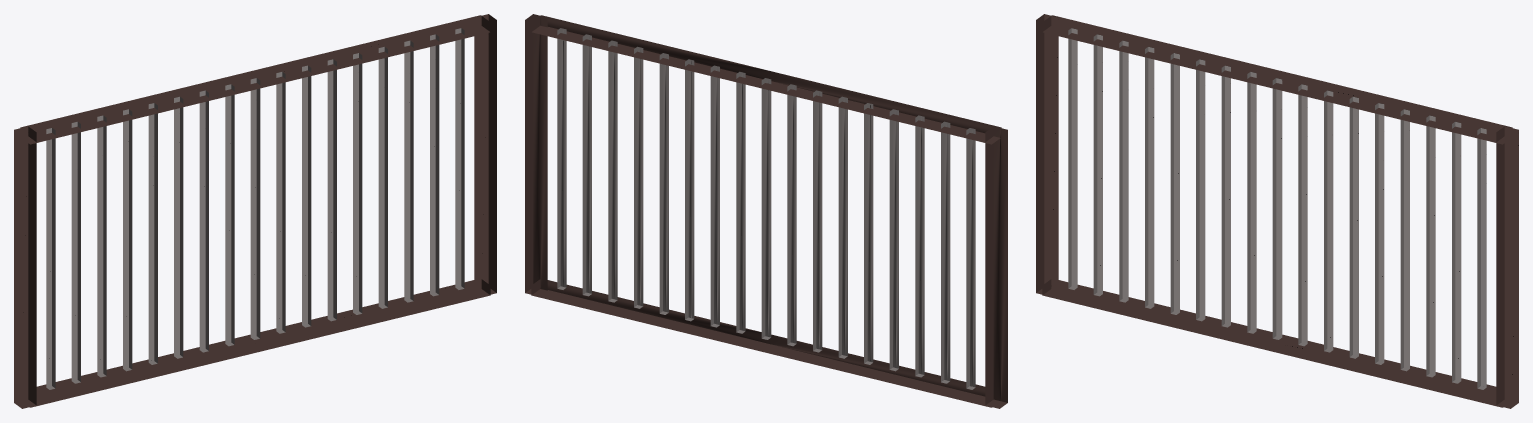
The model's file is ograjca-klasika-8017.glb.
The picture shows the model from 3 angles, left to right: view 1: azimuth 30°, elevation 25°; view 2: azimuth 150°, elevation 25°; view 3: azimuth 330°, elevation 25°; orthographic projection.
Parts seen in each view (by area): view 1: Node_palice, Node_kovina; view 2: Node_palice, Node_kovina; view 3: Node_palice, Node_kovina.
Boxes of the visible parts, bbox=[...] form: Node_palice: bbox=[46, 28, 464, 389]; Node_kovina: bbox=[14, 14, 496, 408]; Node_palice: bbox=[557, 28, 975, 389]; Node_kovina: bbox=[525, 14, 1007, 408]; Node_palice: bbox=[1068, 28, 1486, 389]; Node_kovina: bbox=[1036, 14, 1518, 408].
Size of the model in its own units: 2 by 1.1 by 0.072.
